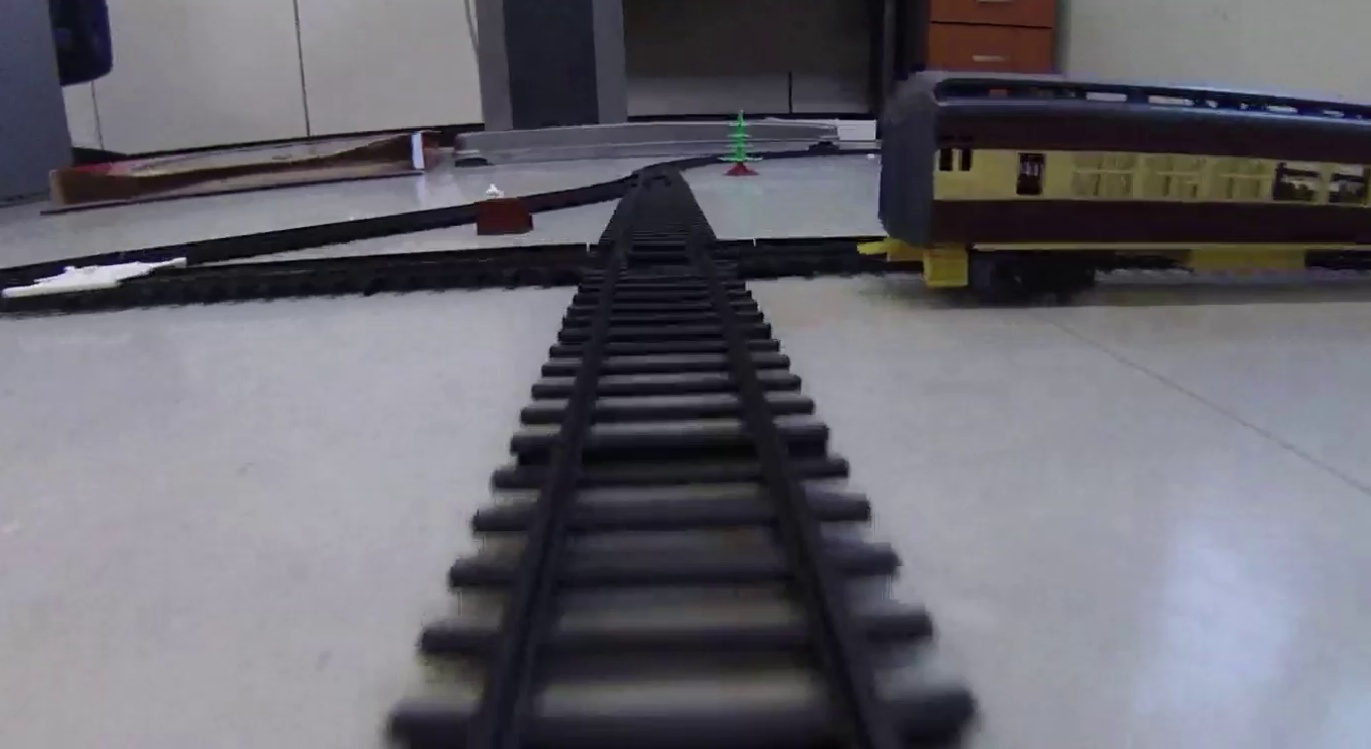box: (475, 200, 531, 235)
tree: (718, 109, 763, 179)
web: (5, 261, 185, 289)
